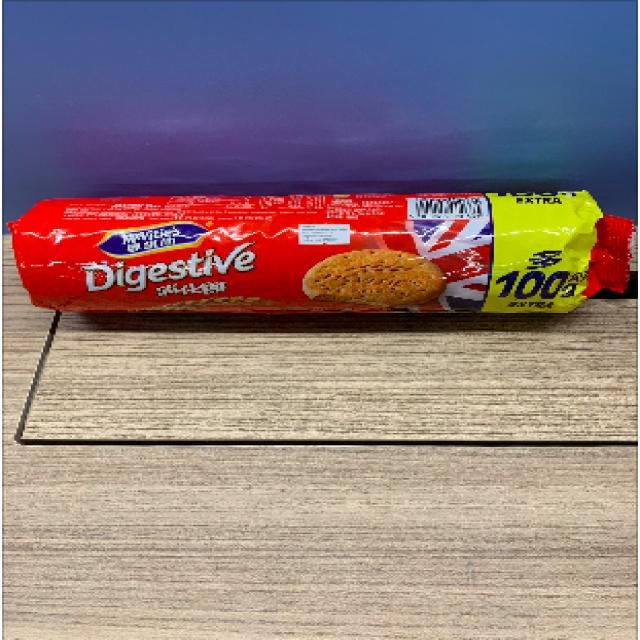object_name: (21, 200, 585, 315)
